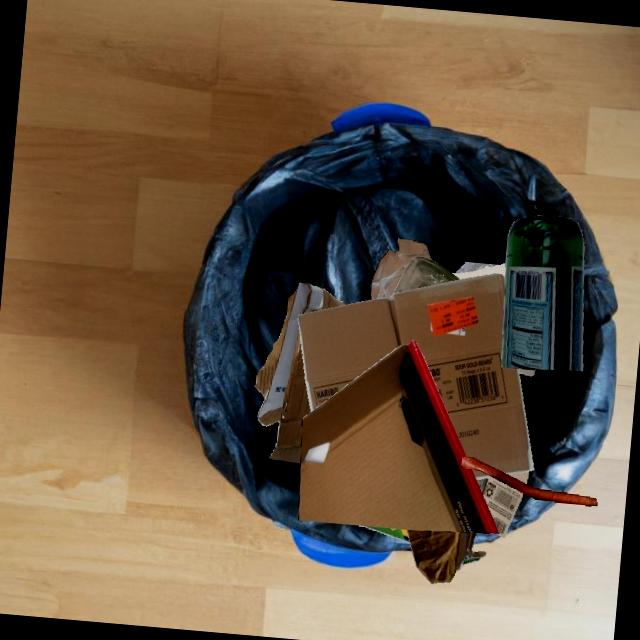biowaste: (461, 457, 597, 506), (391, 528, 394, 530)
cardboard: (297, 273, 533, 474), (298, 340, 498, 533), (255, 282, 344, 463), (391, 479, 475, 531), (406, 530, 460, 584), (455, 531, 486, 572)
glass: (501, 215, 583, 370), (390, 256, 459, 298)
paper: (370, 238, 432, 299), (482, 476, 522, 537), (453, 263, 506, 282), (518, 368, 535, 376)
plastic: (455, 261, 499, 273)
